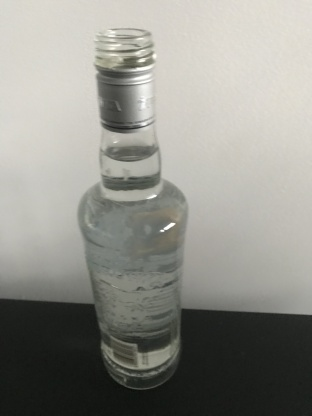nakretka: (91, 26, 159, 133)
